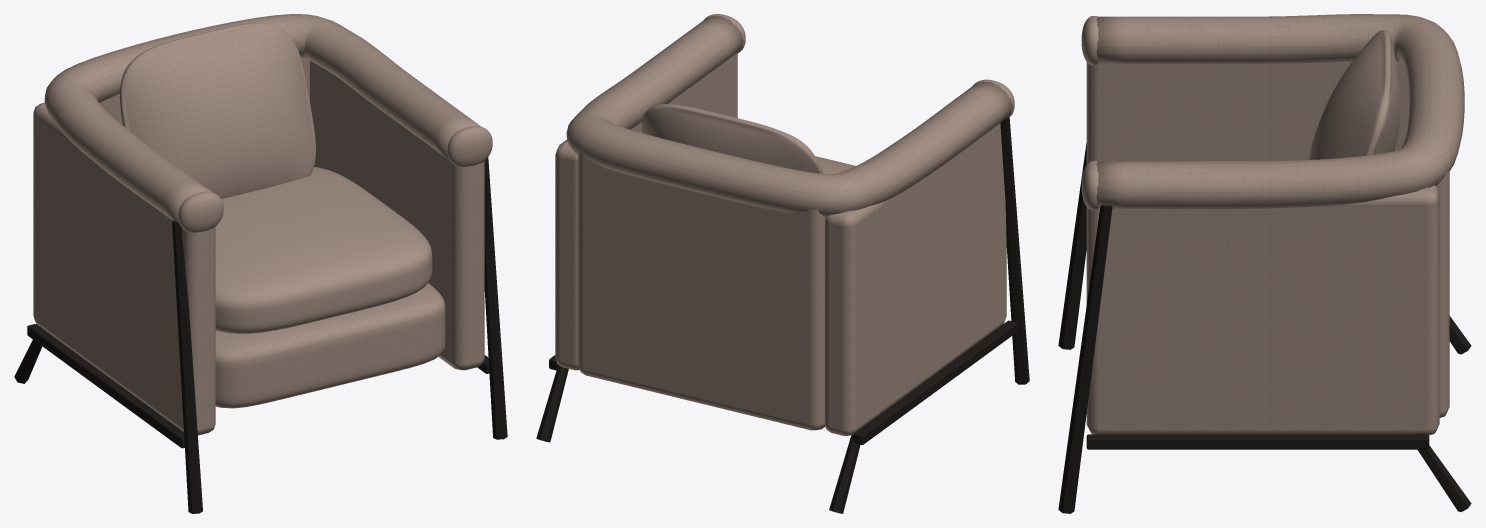
File: glory-sofa-set--arm.glb
3 views of the same model, side by side, from view 1: azimuth 30°, elevation 25°; view 2: azimuth 150°, elevation 25°; view 3: azimuth 270°, elevation 25° (orthographic). The views are drawn at different scales.
Visible parts, largest first — view 1: side-1, cushion, pillow, side1, rim, seatbase, front-1, front1, low-1, rimend-1, rimend1, back-1 (+1 smaller); view 2: back, side-1, rim, side1, pillow, front-1, low-1, back1, back-1; view 3: side1, rim, side-1, pillow, low1, front1, back, front-1, back1, rimend1, rimend-1.
Part boxes in pixels (<box>): side-1: <box>33,102,215,435</box>; cushion: <box>215,166,432,333</box>; pillow: <box>120,23,315,198</box>; side1: <box>310,60,484,370</box>; rim: <box>44,14,481,224</box>; seatbase: <box>215,283,445,408</box>; front-1: <box>172,220,202,513</box>; front1: <box>484,157,507,439</box>; low-1: <box>27,324,184,448</box>; rimend-1: <box>178,191,223,232</box>; rimend1: <box>447,126,492,167</box>; back-1: <box>14,326,42,383</box>; back: <box>578,151,825,430</box>; side-1: <box>824,123,1006,435</box>; rim: <box>566,16,1012,217</box>; side1: <box>555,53,737,370</box>; pillow: <box>642,104,823,173</box>; front-1: <box>1000,116,1029,384</box>; low-1: <box>853,320,1017,444</box>; back1: <box>536,366,568,442</box>; back-1: <box>829,429,861,513</box>; side1: <box>1086,185,1439,435</box>; rim: <box>1096,14,1464,209</box>; side-1: <box>1086,62,1409,164</box>; pillow: <box>1309,30,1400,159</box>; low1: <box>1086,434,1429,449</box>; front1: <box>1058,205,1112,513</box>; back: <box>1436,170,1449,417</box>; front-1: <box>1058,143,1086,349</box>; back1: <box>1416,433,1471,512</box>; rimend1: <box>1081,160,1098,210</box>; rimend-1: <box>1081,16,1098,65</box>.
Size of the model in its own units: 0.7977 by 0.8174 by 0.8195.
3 materials, 2 textured.
